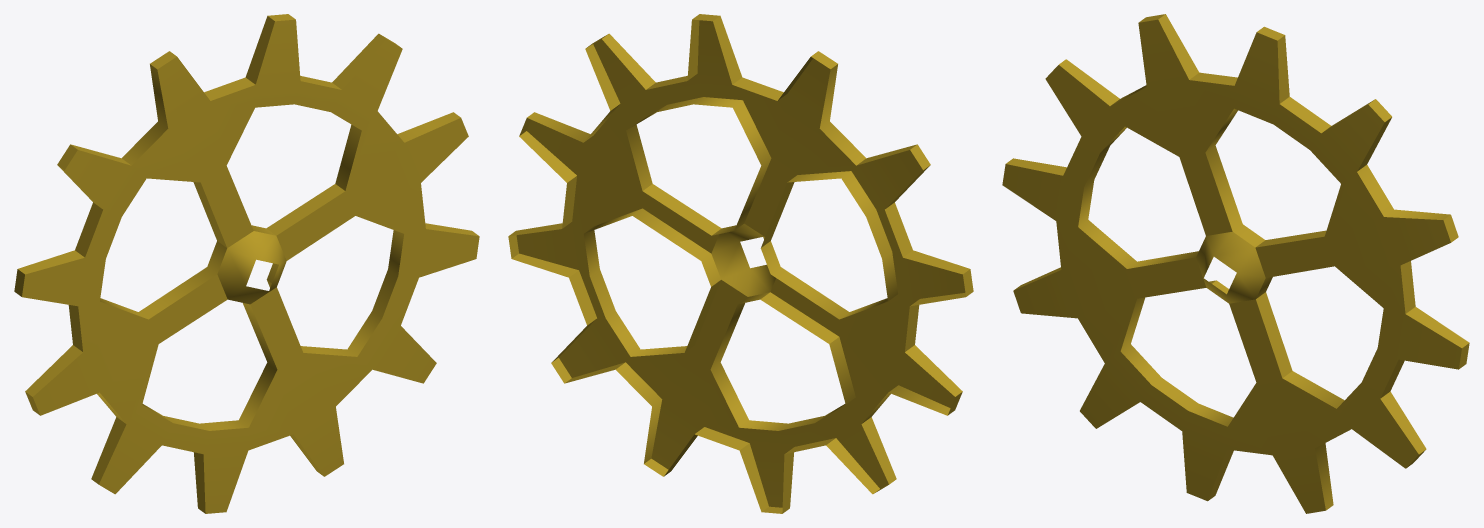
Rendered from cog_01.fbx.
3 views of the same model, side by side, from view 1: azimuth 30°, elevation 25°; view 2: azimuth 150°, elevation 25°; view 3: azimuth 330°, elevation 25° (orthographic).
Visible parts, largest first — view 1: cog_01; view 2: cog_01; view 3: cog_01.
Part boxes in pixels (x1,y1,x2,y2): cog_01: [14, 14, 479, 513]; cog_01: [508, 14, 973, 513]; cog_01: [1002, 14, 1469, 513].
Size of the model in its own units: 333 by 333 by 26.08.
